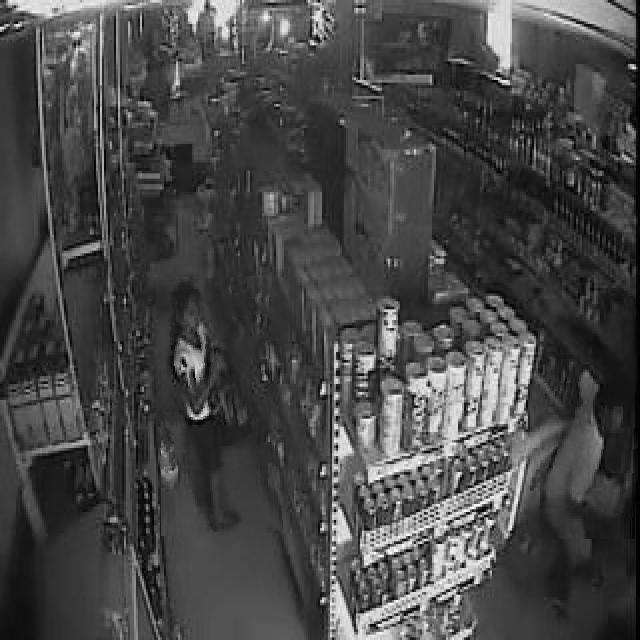normal: (161, 277, 279, 536), (540, 359, 638, 539)
